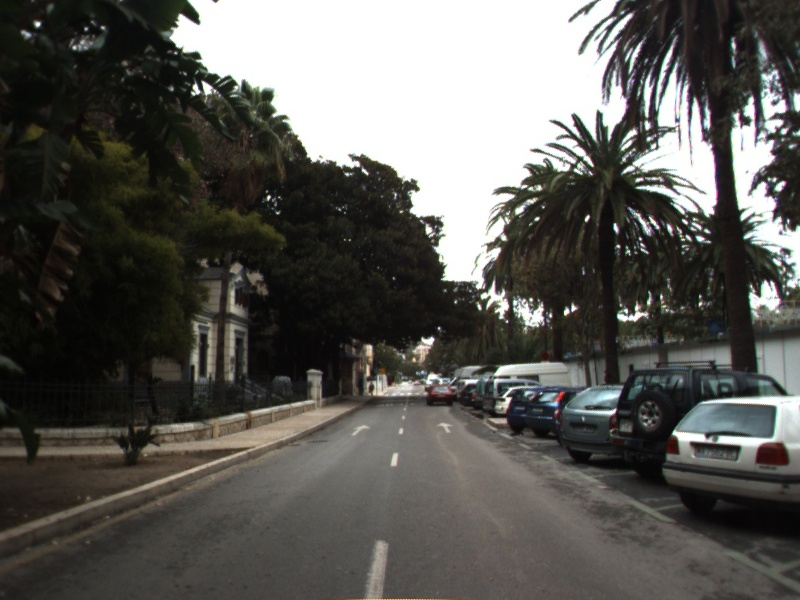STRAIGHT: (348, 423, 373, 438), (434, 420, 456, 435)
